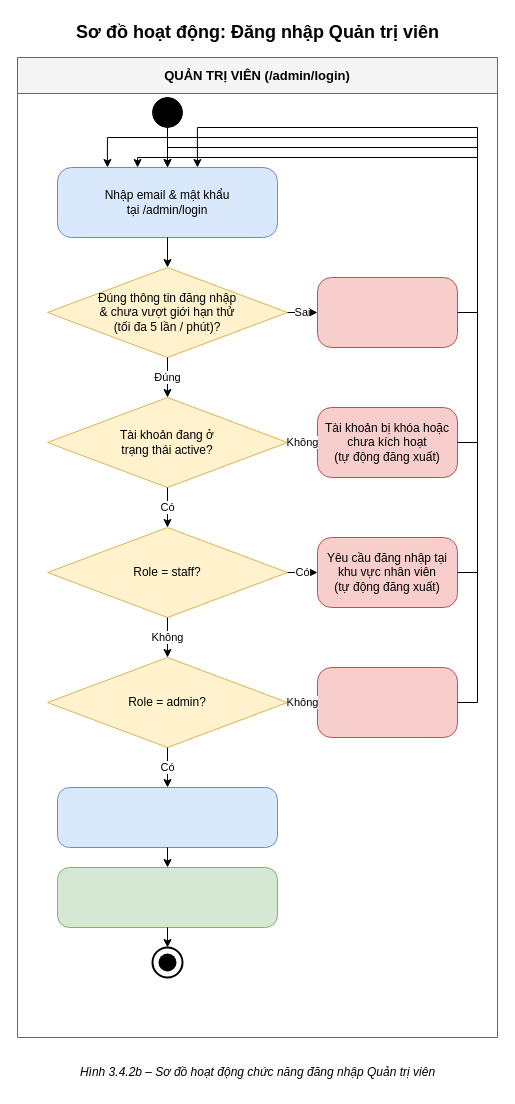
This 515x1104 diagram has some shape labels left out. Each missing label, with the centre of its shape:
"Chuyển hướng đến /admin/dashboard" goes at [167,897].
"Không có quyền truy cập khu vực quản trị (tự động đăng xuất)" goes at [387,702].
"Sai email/mật khẩu hoặc quá nhiều lần thử" goes at [387,312].
"Tạo session mới (login_context = admin)" goes at [167,817].
